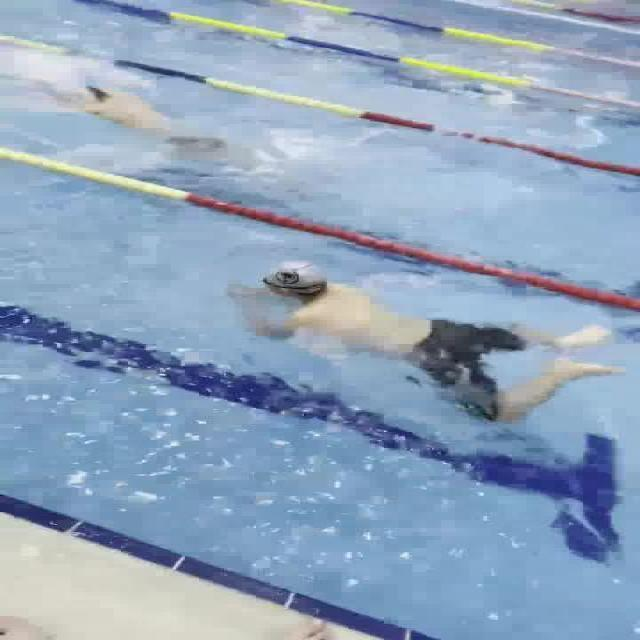Swimming: (223, 260, 621, 426), (44, 76, 252, 179)
